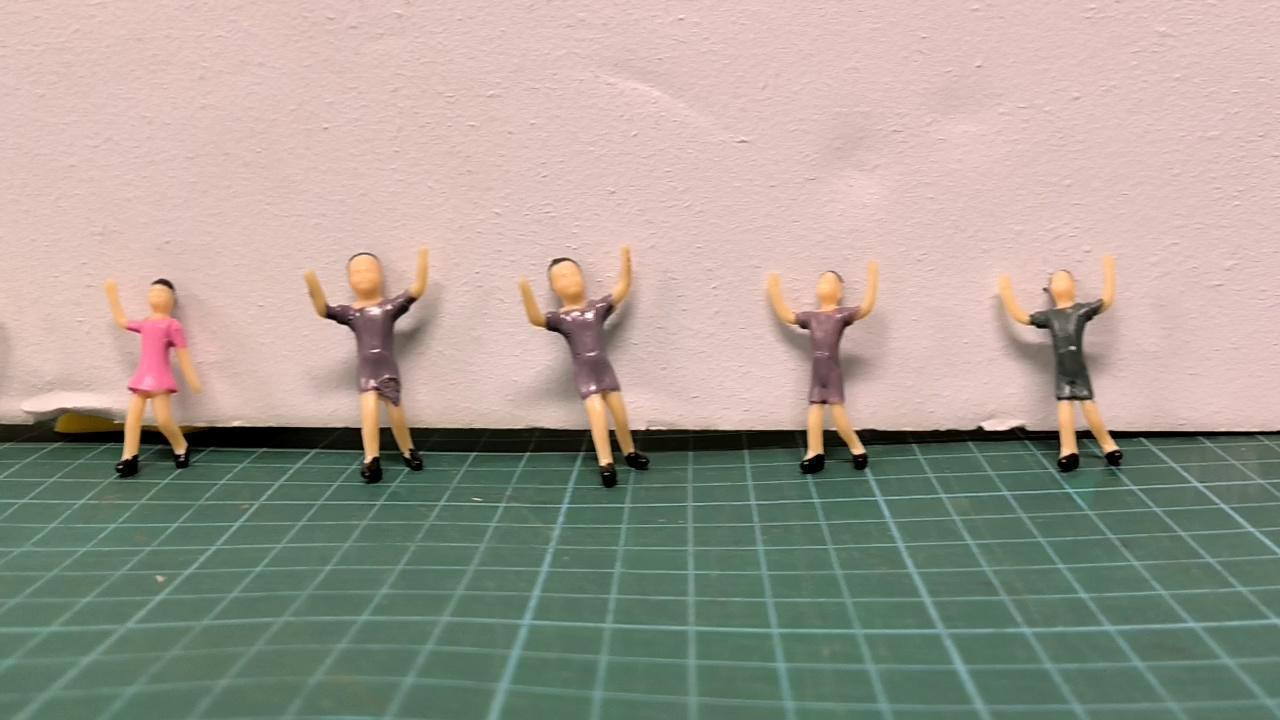human: (515, 243, 653, 495), (303, 243, 433, 493), (993, 249, 1130, 480), (768, 252, 885, 479), (100, 273, 204, 484)
